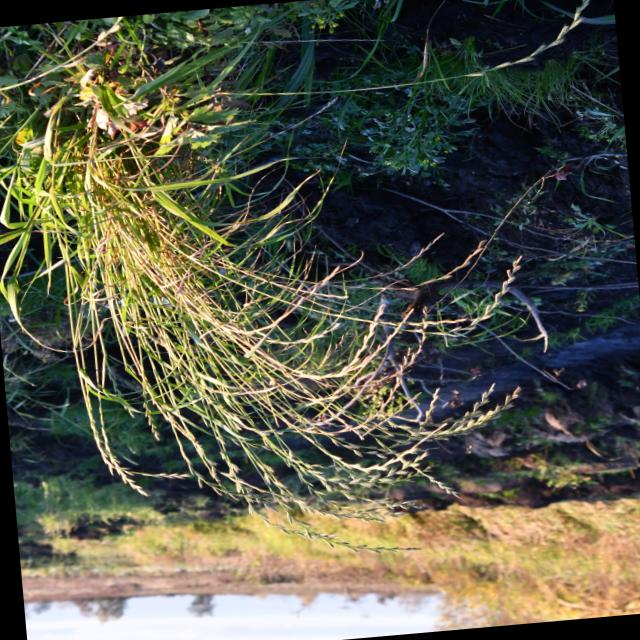Lolium: (0, 0, 640, 588), (57, 130, 371, 570), (226, 300, 550, 478), (188, 321, 410, 538), (108, 243, 235, 507), (47, 219, 151, 508)
